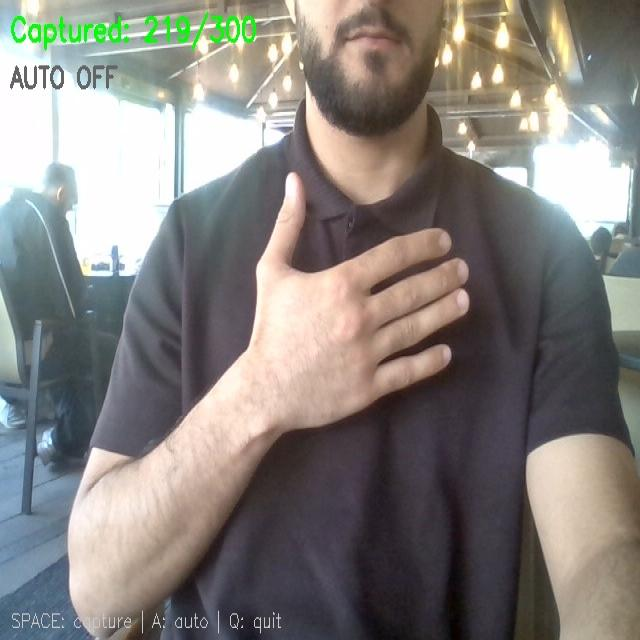Hand: (247, 174, 468, 431)
